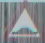Speed Breaker ahead: (4, 2, 44, 38)
